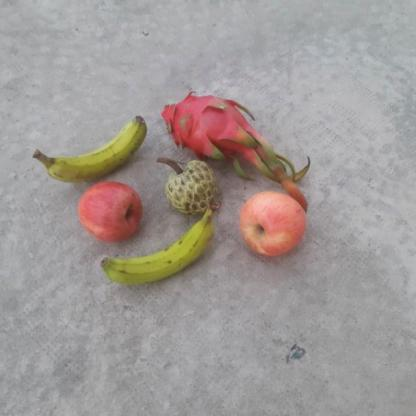annona: (162, 162, 219, 218)
apple: (232, 189, 310, 255), (74, 176, 140, 244)
banana: (99, 214, 212, 287), (38, 112, 146, 183)
pitaya: (162, 96, 256, 161)
